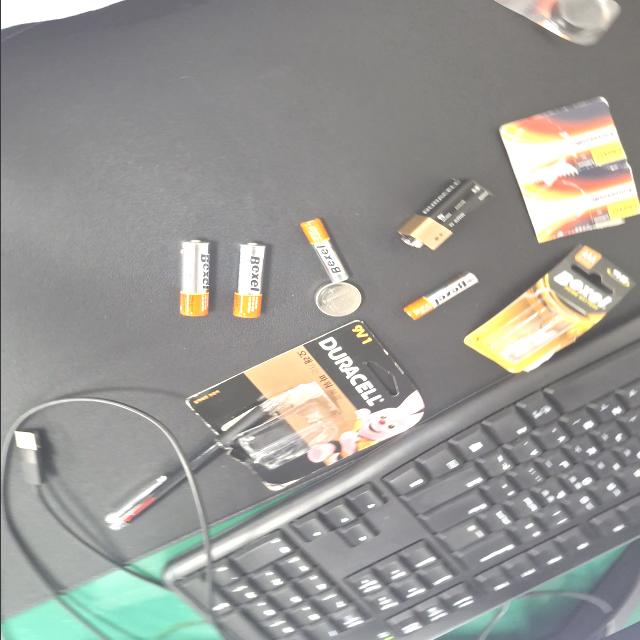9V: (26, 112, 120, 182)
AA: (110, 282, 210, 306), (107, 323, 209, 346)
AAA: (150, 122, 213, 178), (78, 220, 162, 256)
COIN: (162, 210, 208, 244)
